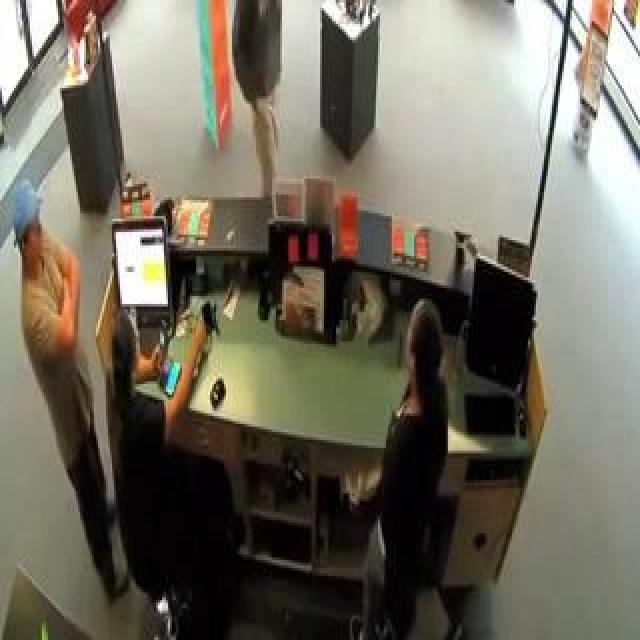low_con: (6, 182, 49, 274)
no_con: (405, 294, 445, 408), (104, 309, 142, 406)
